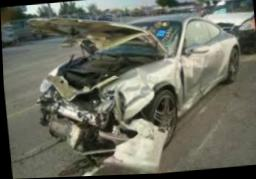Bonnet: (27, 19, 167, 105)
Bumper: (39, 101, 168, 174)
Fender: (112, 58, 184, 119)
Light: (102, 92, 124, 119)
